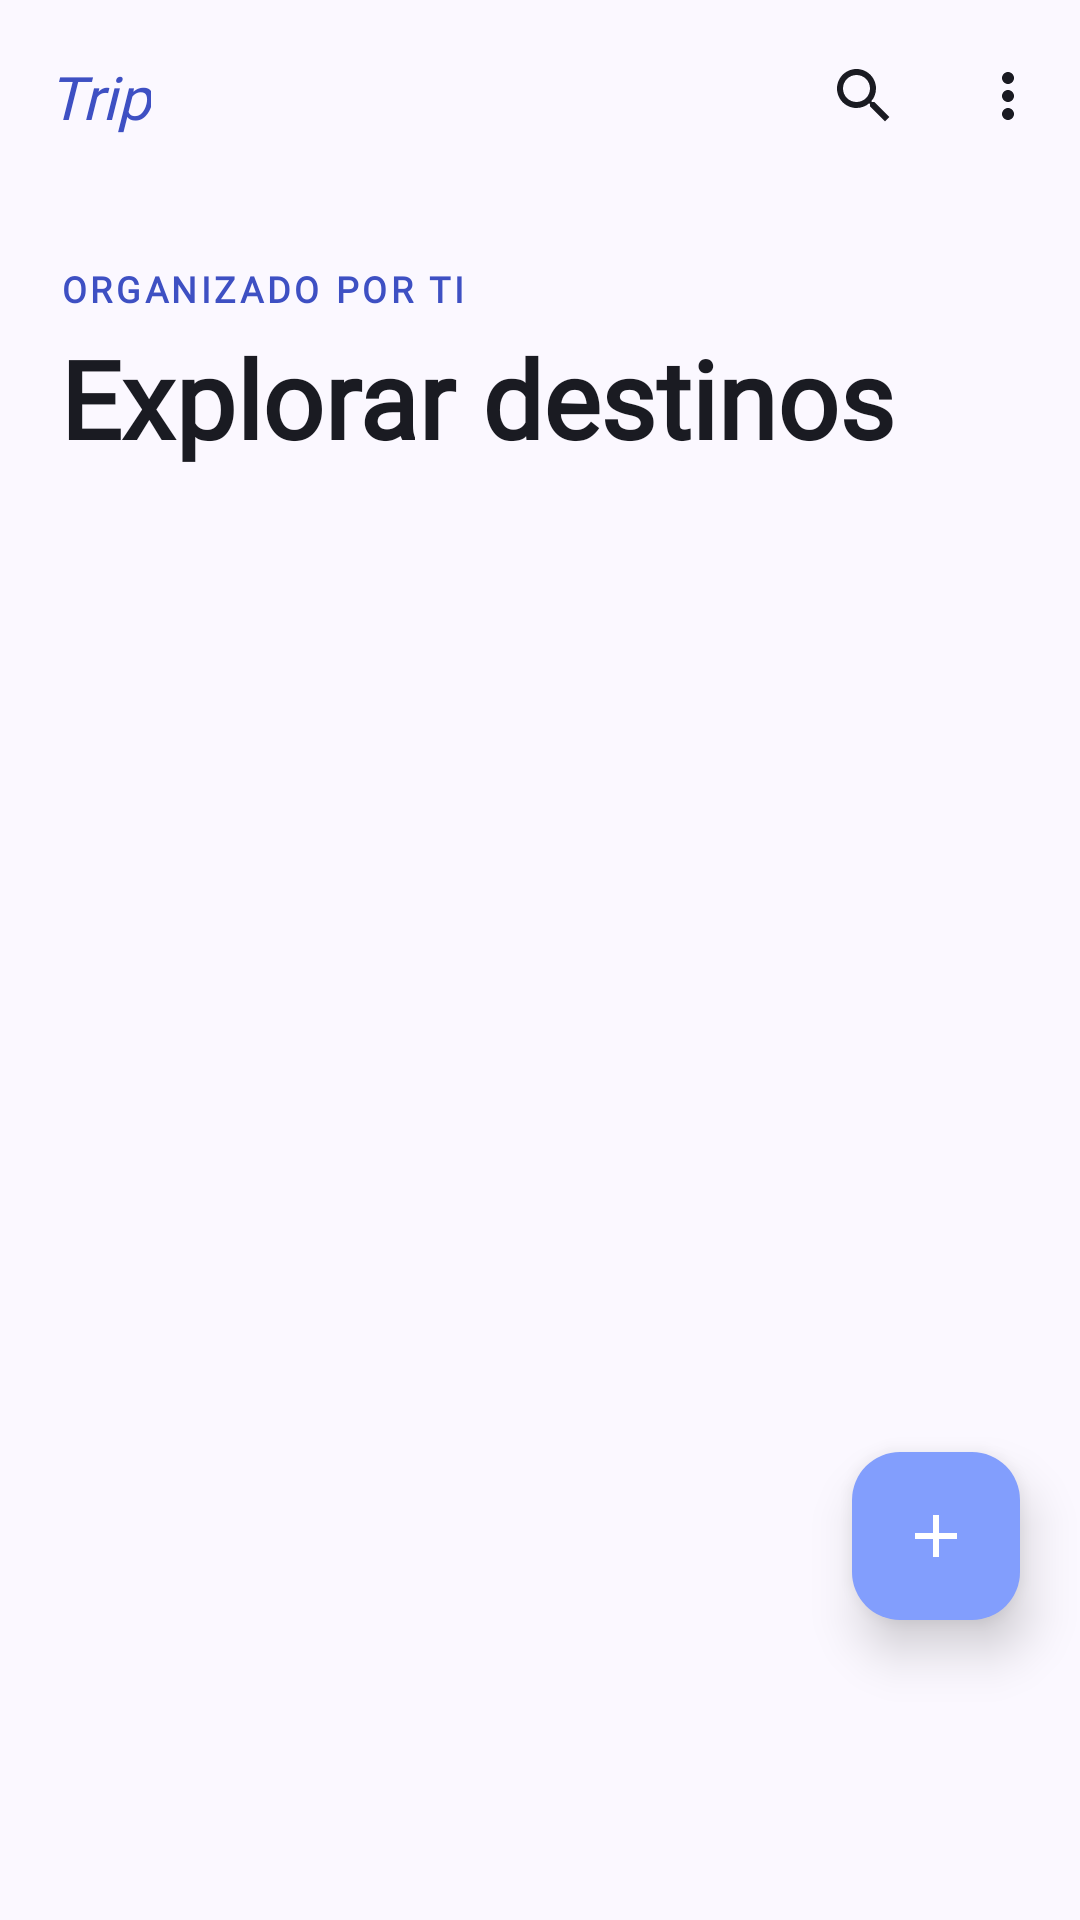

Point at icon controls on the screen. Image size 1080*1920, points as point (x, y).
add: point (936, 1536)
more vert: point (1008, 96)
search: point (863, 95)
